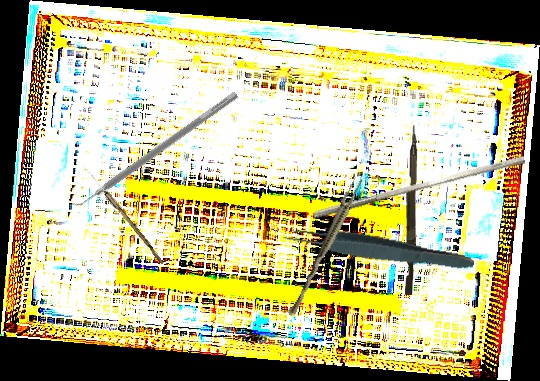Pusher: (312, 147, 526, 228), (405, 125, 417, 295)
Spatula Surgical: (67, 83, 239, 216)
Surgical Spoon: (81, 165, 167, 265)
Tissue Forceps: (286, 174, 365, 320), (282, 220, 476, 276)
